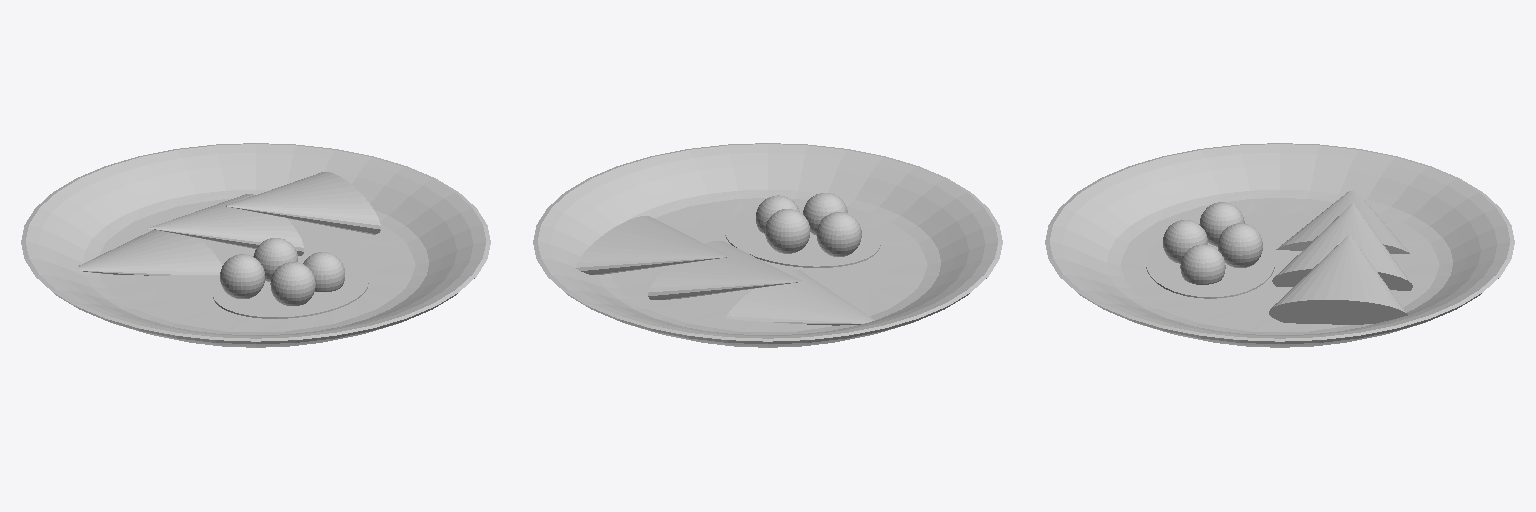
File: KUE BUGIS.obj
The picture shows the model from 3 angles: view 1: azimuth 30°, elevation 25°; view 2: azimuth 150°, elevation 25°; view 3: azimuth 270°, elevation 25°; orthographic projection.
Visible parts, largest first — view 1: Cylinder, Cone.002, Cone.004, Cone.001, Cylinder.001, Sphere.001, Sphere.002, Sphere.003, Sphere; view 2: Cylinder, Cone.002, Cone.001, Cone.004, Cylinder.001, Sphere.001, Sphere, Sphere.002, Sphere.003; view 3: Cylinder, Cone.002, Cone.001, Cylinder.001, Cone.004, Sphere, Sphere.003, Sphere.002, Sphere.001.
Boxes of the visible parts, x1,y1,x2,y2 form: Cylinder: [21, 143, 490, 347]; Cone.002: [226, 172, 380, 234]; Cone.004: [78, 230, 221, 275]; Cone.001: [149, 194, 303, 255]; Cylinder.001: [213, 259, 368, 318]; Sphere.001: [220, 254, 264, 298]; Sphere.002: [270, 262, 315, 305]; Sphere.003: [303, 252, 344, 291]; Sphere: [253, 238, 297, 281]; Cylinder: [533, 143, 1002, 347]; Cone.002: [575, 216, 728, 274]; Cone.001: [648, 241, 801, 299]; Cone.004: [726, 270, 874, 325]; Cylinder.001: [725, 208, 880, 267]; Sphere.001: [817, 212, 861, 256]; Sphere: [765, 209, 809, 253]; Sphere.002: [803, 193, 847, 235]; Sphere.003: [756, 195, 799, 233]; Cylinder: [1045, 143, 1514, 347]; Cone.002: [1269, 234, 1407, 324]; Cone.001: [1272, 203, 1412, 290]; Cylinder.001: [1146, 240, 1274, 298]; Cone.004: [1276, 191, 1409, 253]; Sphere: [1218, 223, 1262, 267]; Sphere.003: [1180, 244, 1225, 284]; Sphere.002: [1163, 220, 1207, 263]; Sphere.001: [1199, 202, 1244, 246].
Bounding box in the file's own units: 2.31 × 0.3376 × 2.31.